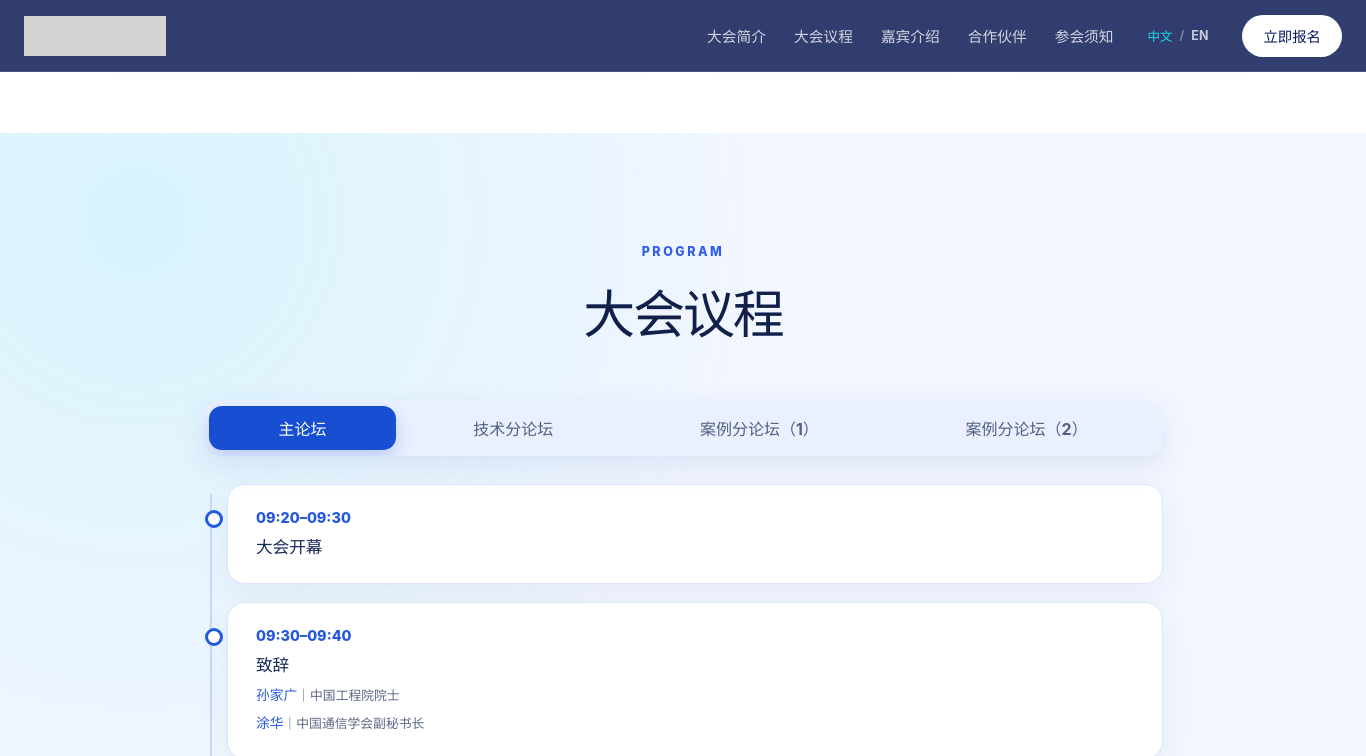
Scenario: 大会官网 › 议程可切换到案例分论坛并展示陈学峰议题
(page scrolled)
Click the tab "案例分论坛（1）": (759, 428) 630,406 -> 888,450
(page scrolled)
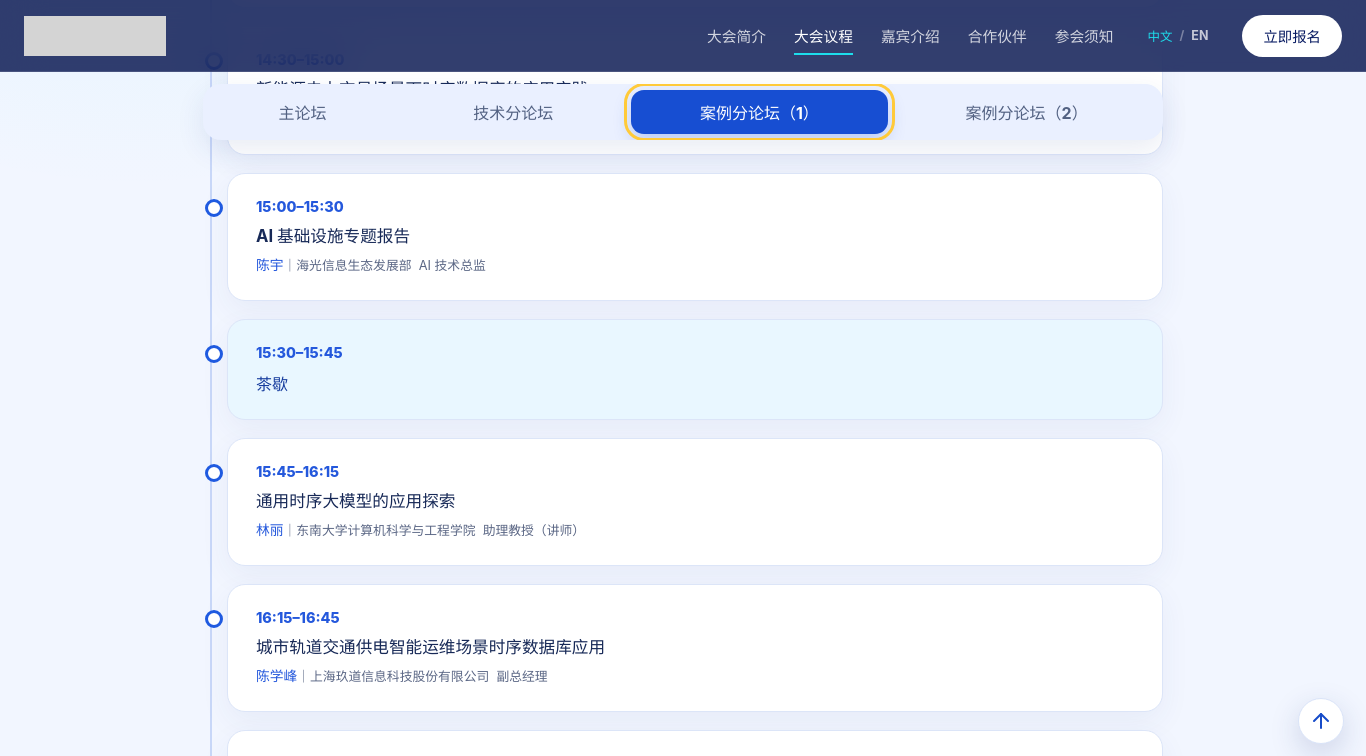
Now the panel named "案例分论坛（1）" shows "城市轨道交通供电智能运维场景时序数据库应用", box 256,637 -> 605,657
Now the panel named "案例分论坛（1）" shows "陈学峰", box 256,668 -> 297,684
